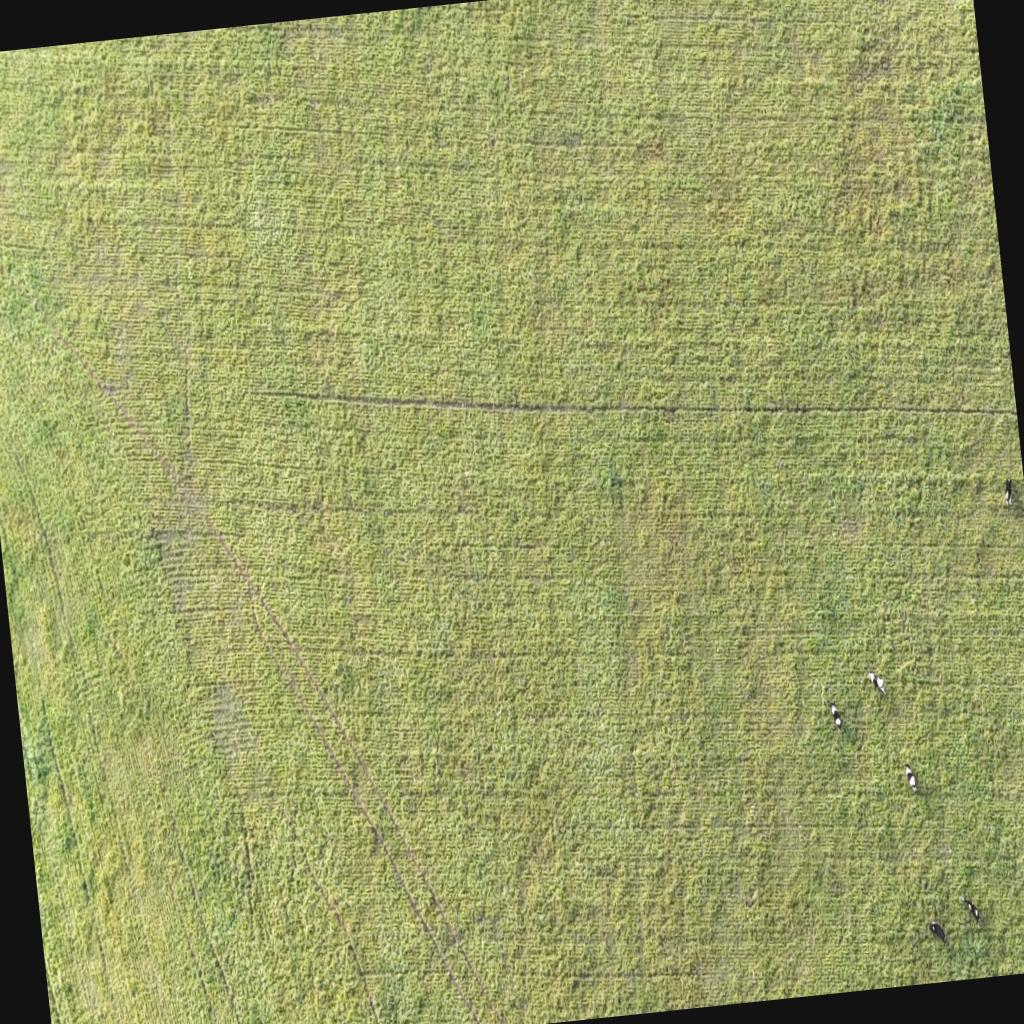cow: (927, 916, 947, 948), (960, 894, 980, 924), (864, 670, 886, 696), (828, 701, 844, 730), (902, 765, 918, 794), (1000, 478, 1014, 506)
